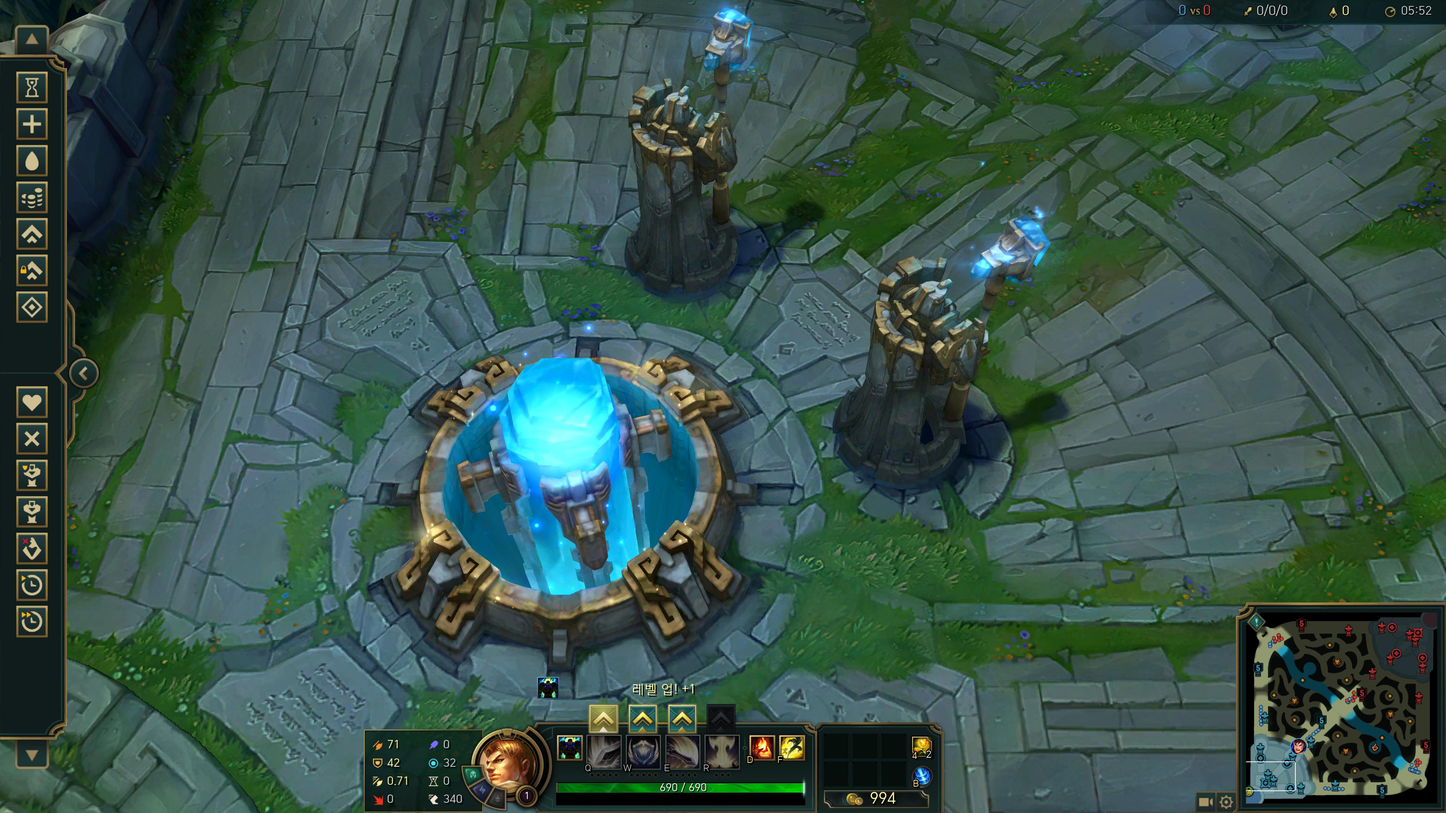ally-nexus: (328, 321, 823, 667)
ally-tower: (834, 214, 1052, 491), (624, 6, 753, 300)
